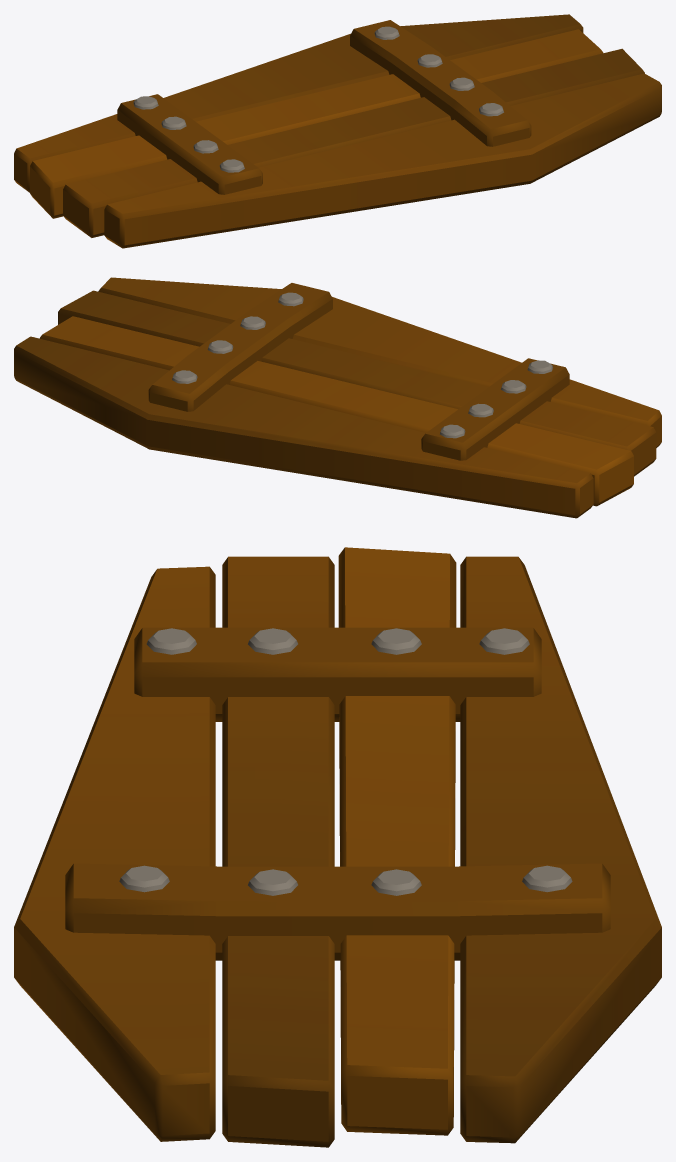
File: Cofin_Lid_2_3.obj
3 renders of one model, top to bottom at view 1: azimuth 30°, elevation 25°; view 2: azimuth 150°, elevation 25°; view 3: azimuth 270°, elevation 25°, orthographic. The views are drawn at different scales.
Visible parts, largest first — view 1: Cofin_Lid_2_3; view 2: Cofin_Lid_2_3; view 3: Cofin_Lid_2_3.
Boxes of the visible parts, box(x1,y1,x2,y2) form: Cofin_Lid_2_3: box(14, 14, 661, 248); Cofin_Lid_2_3: box(14, 277, 661, 518); Cofin_Lid_2_3: box(14, 547, 661, 1147).
Bounding box in the file's own units: 1.36 × 0.1265 × 0.6911.
